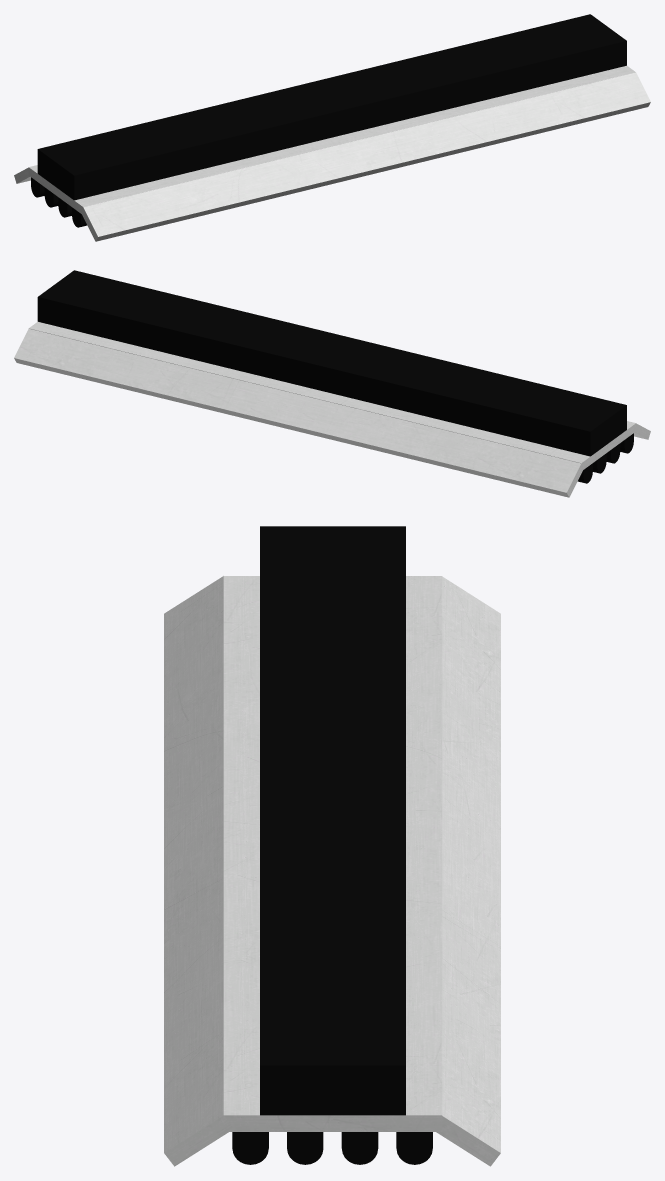
File: Light_old.obj
3 renders of one model, top to bottom at view 1: azimuth 30°, elevation 25°; view 2: azimuth 150°, elevation 25°; view 3: azimuth 270°, elevation 25°, orthographic. The views are drawn at different scales.
Parts seen in each view (by area): view 1: Base1, Part29, Part30; view 2: Base1, Part31, Part30; view 3: Base1, Part30, Part29, Part31.
Boxes of the visible parts, x1=… form: Base1: x1=37, y1=14, x2=626, y2=200; Part29: x1=81, y1=72, x2=650, y2=241; Part30: x1=28, y1=65, x2=635, y2=214; Base1: x1=37, y1=270, x2=626, y2=456; Part31: x1=14, y1=329, x2=583, y2=497; Part30: x1=29, y1=322, x2=635, y2=471; Base1: x1=260, y1=526, x2=405, y2=1115; Part30: x1=223, y1=576, x2=442, y2=1131; Part29: x1=164, y1=576, x2=233, y2=1166; Part31: x1=431, y1=576, x2=500, y2=1166.
Size of the model in its own units: 9.63 by 0.8398 by 2.54.
Materials: 3 (1 with a texture image).
